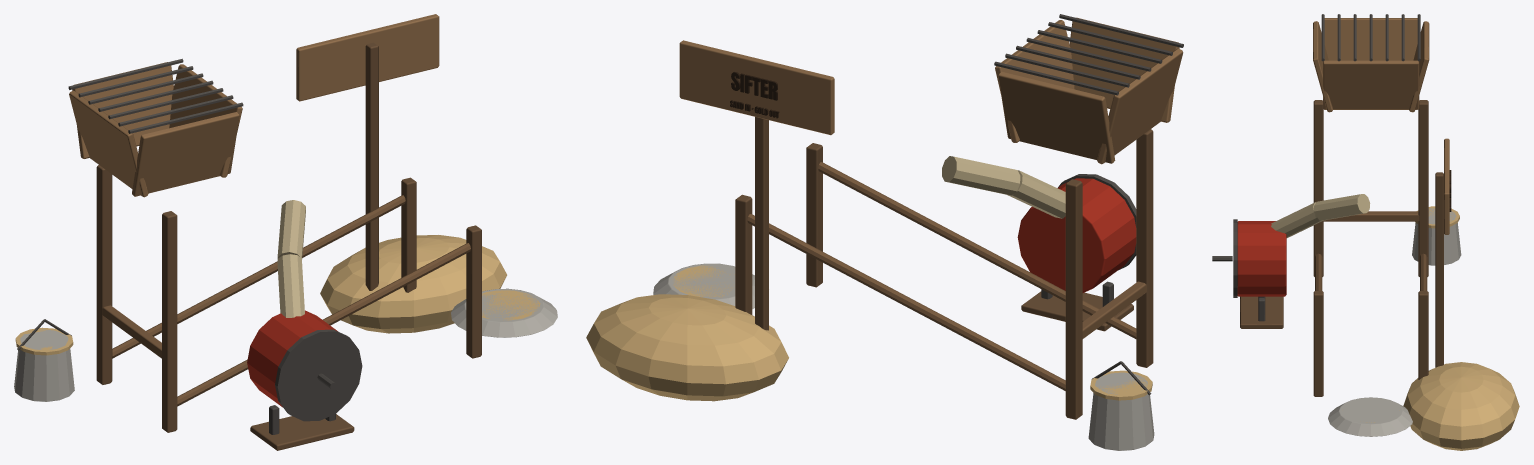
The model's file is Sifter.glb.
3 renders of one model, left to right at view 1: azimuth 30°, elevation 25°; view 2: azimuth 150°, elevation 25°; view 3: azimuth 270°, elevation 25°, orthographic. The views are drawn at different scales.
Parts seen in each view (by area): view 1: Sifter.001; view 2: Sifter.001; view 3: Sifter.001.
Part boxes in pixels (x1,y1,x2,y2): Sifter.001: (14,14,557,450); Sifter.001: (586,14,1183,450); Sifter.001: (1212,14,1519,450).
Size of the model in its own units: 3.18 by 2.09 by 2.11.
